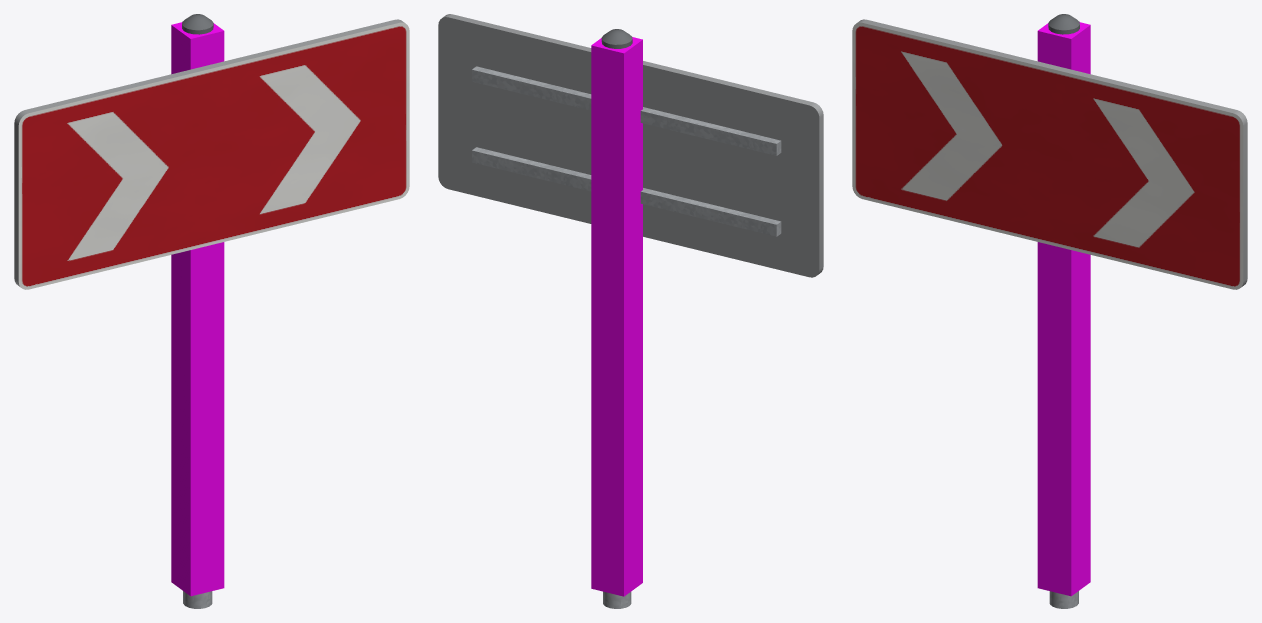
The model's file is EN_Sign_1_34_1_Right_x2.fbx.
3 renders of one model, left to right at view 1: azimuth 30°, elevation 25°; view 2: azimuth 150°, elevation 25°; view 3: azimuth 330°, elevation 25°, orthographic. The views are drawn at different scales.
Visible parts, largest first — view 1: EN_Sign_1_34_1_Right_x2_Mesh, COL_Post; view 2: EN_Sign_1_34_1_Right_x2_Mesh, COL_Post; view 3: EN_Sign_1_34_1_Right_x2_Mesh, COL_Post.
Part boxes in pixels (<box>): EN_Sign_1_34_1_Right_x2_Mesh: <box>14,14,409,608</box>; COL_Post: <box>171,22,224,596</box>; EN_Sign_1_34_1_Right_x2_Mesh: <box>438,14,823,608</box>; COL_Post: <box>591,37,642,596</box>; EN_Sign_1_34_1_Right_x2_Mesh: <box>852,14,1247,608</box>; COL_Post: <box>1037,22,1090,596</box>.
Bounding box in the file's own units: 1.16 × 1.66 × 0.134.
